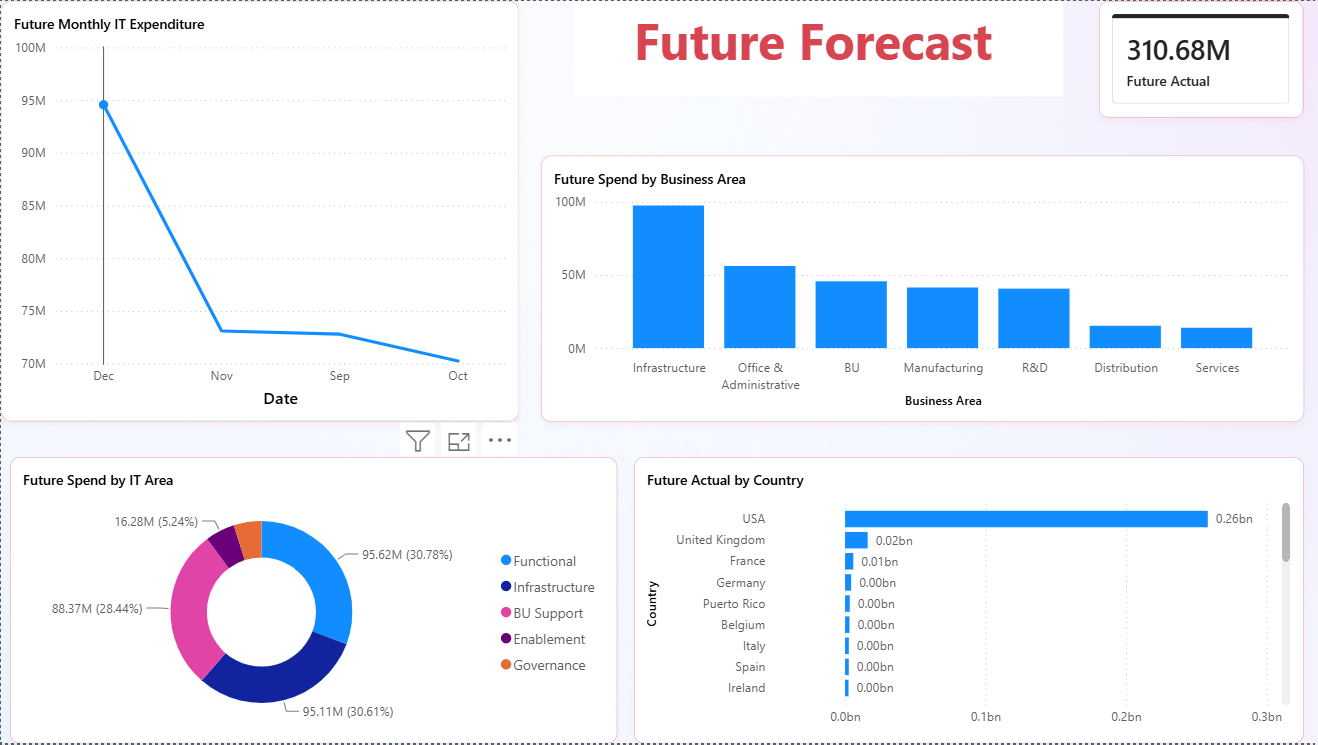

This screenshot's page, from the dashboard's own definition file:
{"tool":"powerbi","page":{"name":"Future Forecast","canvas":[1280,720],"ordinal":2},"visuals":[{"type":"cardVisual","fields":{"Data":["Future Data.Future Actual"]},"box":[1065.8,0,198.4,113.4],"z":0},{"type":"lineChart","title":"Future Monthly IT Expenditure","fields":{"Category":["Future Data.Date"],"Y":["Future Data.Future Actual"]},"box":[0,0,502.7,408.2],"z":1},{"type":"clusteredColumnChart","title":"Future Spend by Business Area","fields":{"Category":["Future Data.Business Area"],"Y":["Future Data.Future Actual"]},"box":[523.5,149.3,740.8,258.9],"z":2},{"type":"donutChart","title":"Future Spend by IT Area","fields":{"Category":["Future Data.IT Area"],"Y":["Future Data.Future Actual"]},"box":[9.4,442.2,589.6,277.8],"z":3},{"type":"barChart","fields":{"Category":["Future Data.Country"],"Y":["Future Data.Future Actual"]},"box":[614.2,442.2,650.1,277.8],"z":4},{"type":"textbox","box":[555.6,0,474.3,92.6],"z":5}]}

Visuals, with their boxes in screenshot pixels (x1, y1, x2, y2), scaled from the page's 1280x720 canvas onto the 1318x745 screenshot:
cardVisual - Future Data.Future Actual: 1097 0 1302 117
"Future Monthly IT Expenditure" lineChart: 0 0 518 422
"Future Spend by Business Area" clusteredColumnChart: 539 154 1302 422
"Future Spend by IT Area" donutChart: 10 458 617 744
barChart - Future Data.Country x Future Data.Future Actual: 632 458 1302 744
textbox: 572 0 1060 96
